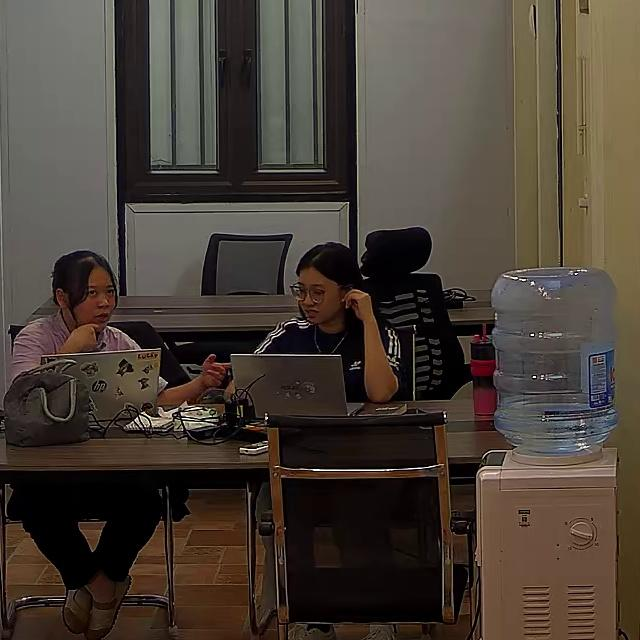no_helmet: (295, 240, 372, 297), (51, 248, 117, 312)
none: (240, 311, 404, 399), (10, 315, 166, 400)
